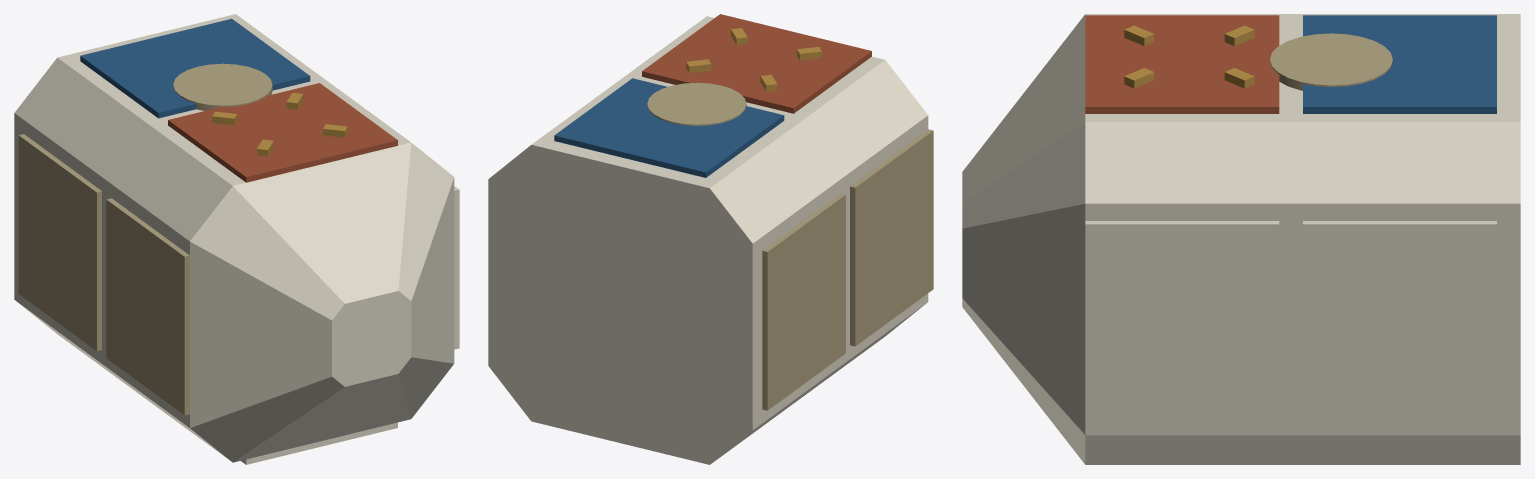
The model's file is pellet_shell.obj.
3 views of the same model, side by side, from view 1: azimuth 30°, elevation 25°; view 2: azimuth 150°, elevation 25°; view 3: azimuth 270°, elevation 25° (orthographic). The views are drawn at different scales.
Parts seen in each view (by area): view 1: pellet_shell; view 2: pellet_shell; view 3: pellet_shell.
Boxes of the visible parts, x1=… form: pellet_shell: x1=14, y1=14, x2=459, y2=464; pellet_shell: x1=488, y1=14, x2=933, y2=464; pellet_shell: x1=962, y1=14, x2=1520, y2=464.
Size of the model in its own units: 0.832 by 0.851 by 1.18.
